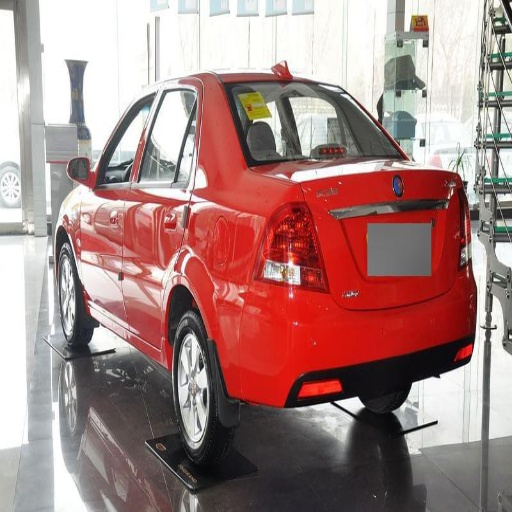back_bumper: (227, 268, 505, 508)
back_glass: (230, 85, 399, 162)
back_left_door: (127, 91, 186, 320)
back_left_light: (254, 197, 325, 292)
tailgate: (279, 159, 450, 304)
trunk: (303, 173, 456, 311)
